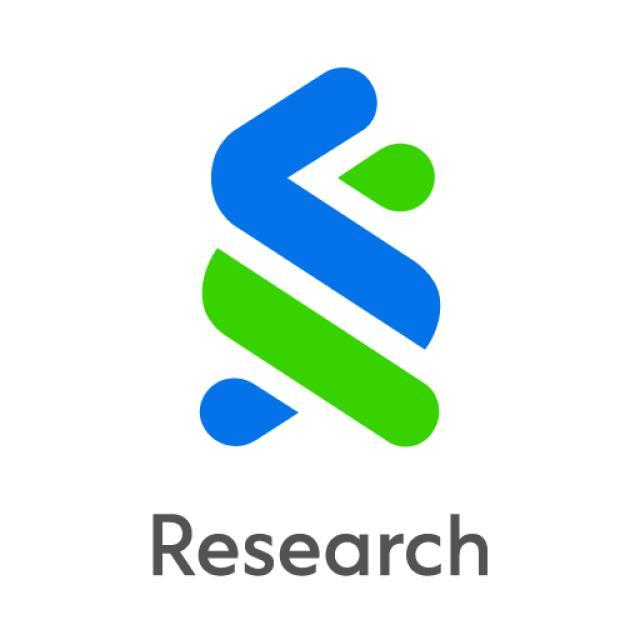Standard Chartered: (196, 65, 440, 452)
